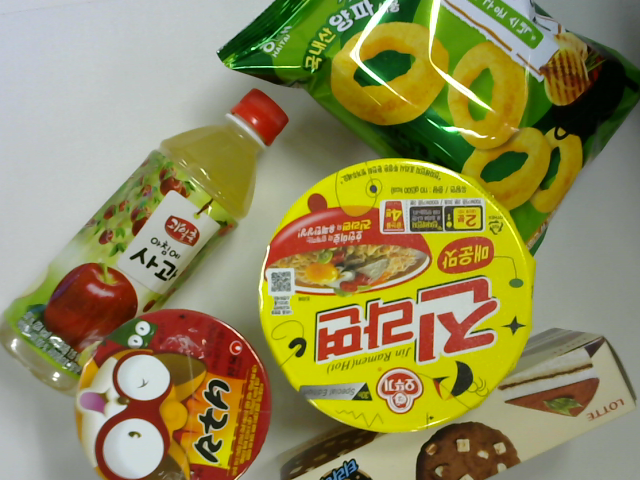Chicchok_Tiramisu: (254, 326, 640, 479)
Grilled_Onions: (213, 1, 637, 261)
Jinlamyeon_Hot_Taste_Large_Cup: (240, 161, 539, 442)
Morning_Apple_500ml: (1, 83, 294, 402)
Raccoon: (74, 306, 274, 480)
